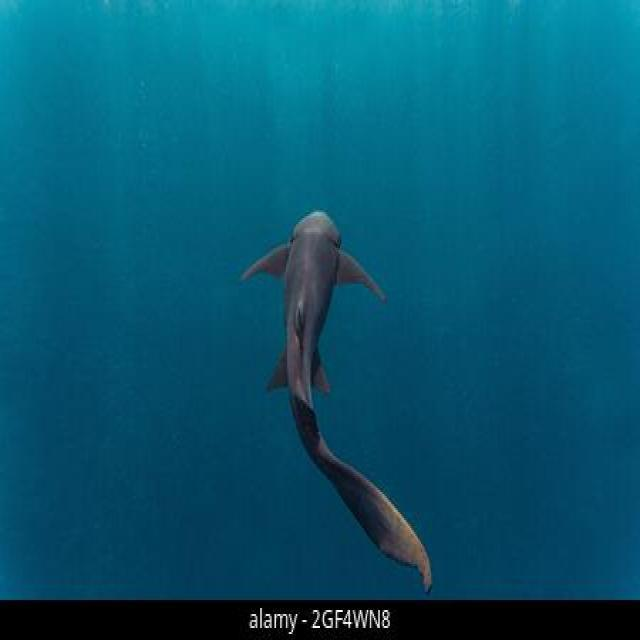Shark: (220, 138, 450, 584)
